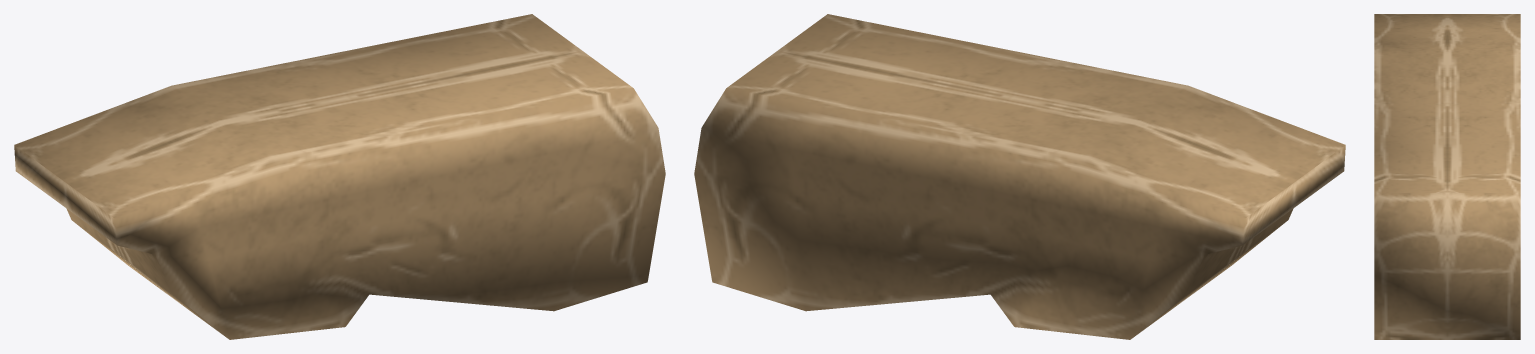
File: FBX_flying_stone_04.fbx
3 renders of one model, left to right at view 1: azimuth 30°, elevation 25°; view 2: azimuth 150°, elevation 25°; view 3: azimuth 270°, elevation 25°, orthographic. The views are drawn at different scales.
Visible parts, largest first — view 1: polySurface_flying_stone_04; view 2: polySurface_flying_stone_04; view 3: polySurface_flying_stone_04.
Part boxes in pixels (<box>): polySurface_flying_stone_04: <box>14,14,665,339</box>; polySurface_flying_stone_04: <box>694,14,1345,339</box>; polySurface_flying_stone_04: <box>1374,14,1520,339</box>.
Bounding box in the file's own units: 7.67 × 2.93 × 2.45.
